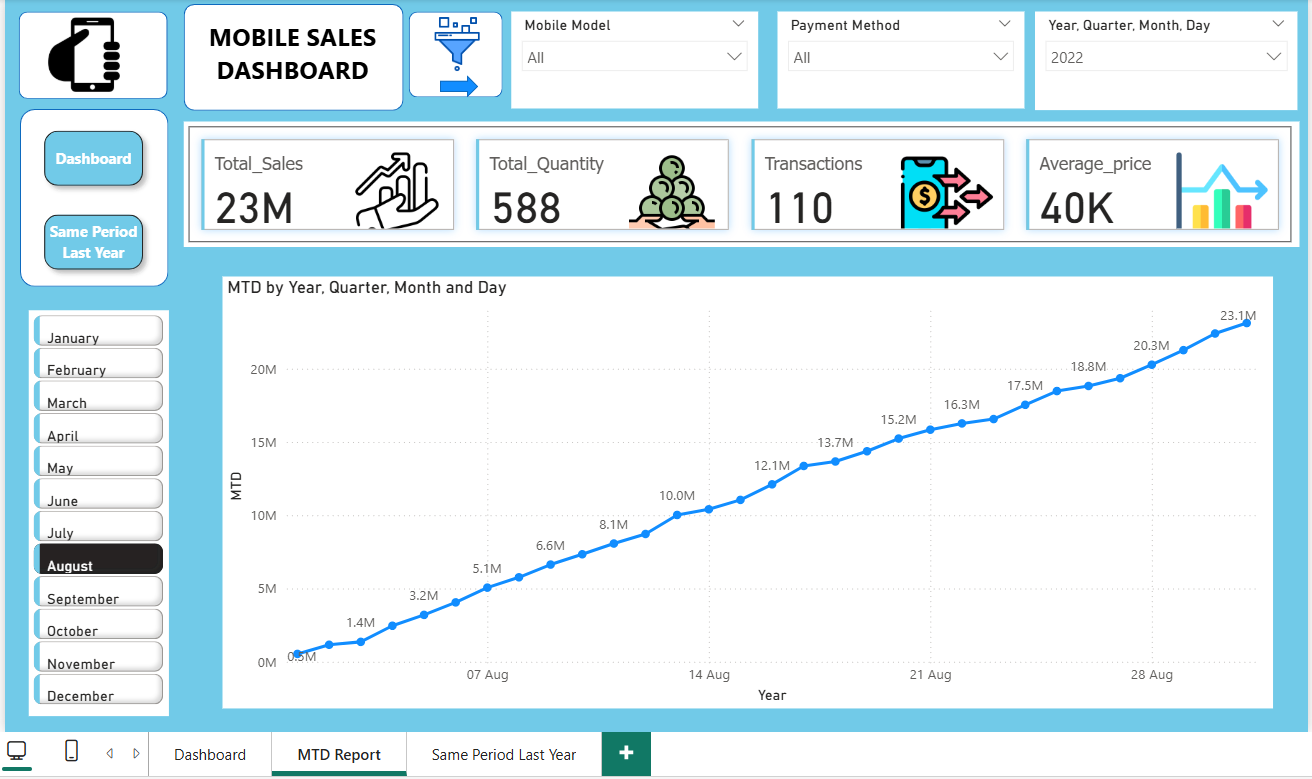

Layout of this report page (visuals, bound fields, positions):
{"tool":"powerbi","page":{"name":"MTD Report","canvas":[1280,720],"ordinal":1},"visuals":[{"type":"shape","box":[14.4,108.2,145.7,174.6],"z":0},{"type":"shape","box":[14.1,12.8,146.2,85.9],"z":1000},{"type":"cardVisual","fields":{"Data":["Mobile_sales_data.Total_Sales","Mobile_sales_data.Total_Quantity","Mobile_sales_data.Transactions","Mobile_sales_data.Average_price"]},"box":[175,120.3,1095.3,123.4],"z":2000},{"type":"slicer","fields":{"Values":["Mobile_sales_data.Payment Method"]},"box":[757.8,12.5,242.2,95.3],"z":3000},{"type":"slicer","fields":{"Values":["Custom_calender.Date.Variation.Date Hierarchy.Year","Custom_calender.Date.Variation.Date Hierarchy.Quarter","Custom_calender.Date.Variation.Date Hierarchy.Month","Custom_calender.Date.Variation.Date Hierarchy.Day"]},"box":[1010.9,12.5,257.8,96.9],"z":4000},{"type":"shape","box":[396.9,12.5,92.2,84.4],"z":5000},{"type":"image","box":[390.6,12.5,107.8,64.1],"z":6000},{"type":"shape","box":[426.6,75,37.5,21.9],"z":7000},{"type":"shape","box":[175,4.7,215.6,104.7],"z":8000},{"type":"textbox","box":[181.2,15.6,201.6,82.8],"z":9000},{"type":"slicer","fields":{"Values":["Mobile_sales_data.Mobile Model"]},"box":[496.9,12.5,242.2,95.3],"z":10000},{"type":"lineChart","fields":{"Y":["Mobile_sales_data.MTD"],"Category":["Custom_calender.Date.Variation.Date Hierarchy.Year","Custom_calender.Date.Variation.Date Hierarchy.Quarter","Custom_calender.Date.Variation.Date Hierarchy.Month","Custom_calender.Date.Variation.Date Hierarchy.Day"]},"box":[213.5,272.7,1031.6,424.2],"z":11000},{"type":"advancedSlicerVisual","fields":{"Values":["Custom_calender.Date.Variation.Date Hierarchy.Month"]},"box":[23,304.9,137.7,398.4],"z":12000},{"type":"pageNavigator","box":[28.9,119.7,115.4,155.8],"z":13000},{"type":"image","box":[14.4,13,125.5,82.2],"z":13001}]}

Visuals, with their boxes in screenshot pixels (x1, y1, x2, y2):
shape: (x1=18, y1=106, x2=165, y2=282)
shape: (x1=18, y1=10, x2=165, y2=96)
cardVisual - Mobile_sales_data.Total_Sales x Mobile_sales_data.Total_Quantity: (x1=180, y1=118, x2=1287, y2=243)
slicer - Mobile_sales_data.Payment Method: (x1=769, y1=9, x2=1014, y2=106)
slicer - Custom_calender.Date.Variation.Date Hierarchy.Year x Custom_calender.Date.Variation.Date Hierarchy.Quarter: (x1=1025, y1=9, x2=1286, y2=107)
shape: (x1=405, y1=9, x2=498, y2=95)
image: (x1=398, y1=9, x2=507, y2=74)
shape: (x1=435, y1=72, x2=473, y2=95)
shape: (x1=180, y1=1, x2=398, y2=107)
textbox: (x1=187, y1=12, x2=390, y2=96)
slicer - Mobile_sales_data.Mobile Model: (x1=506, y1=9, x2=751, y2=106)
lineChart - Mobile_sales_data.MTD x Custom_calender.Date.Variation.Date Hierarchy.Year: (x1=219, y1=272, x2=1262, y2=701)
advancedSlicerVisual - Custom_calender.Date.Variation.Date Hierarchy.Month: (x1=27, y1=305, x2=166, y2=707)
pageNavigator: (x1=33, y1=118, x2=149, y2=275)
image: (x1=18, y1=10, x2=145, y2=93)
